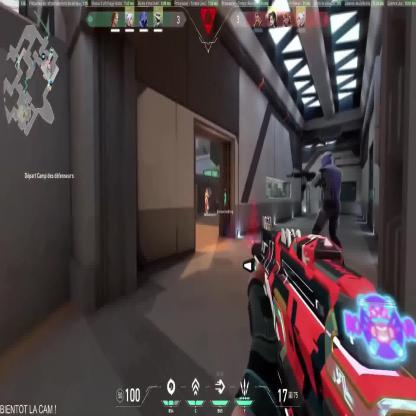enemy: (204, 187, 209, 213)
enemy_head: (205, 187, 208, 192)
